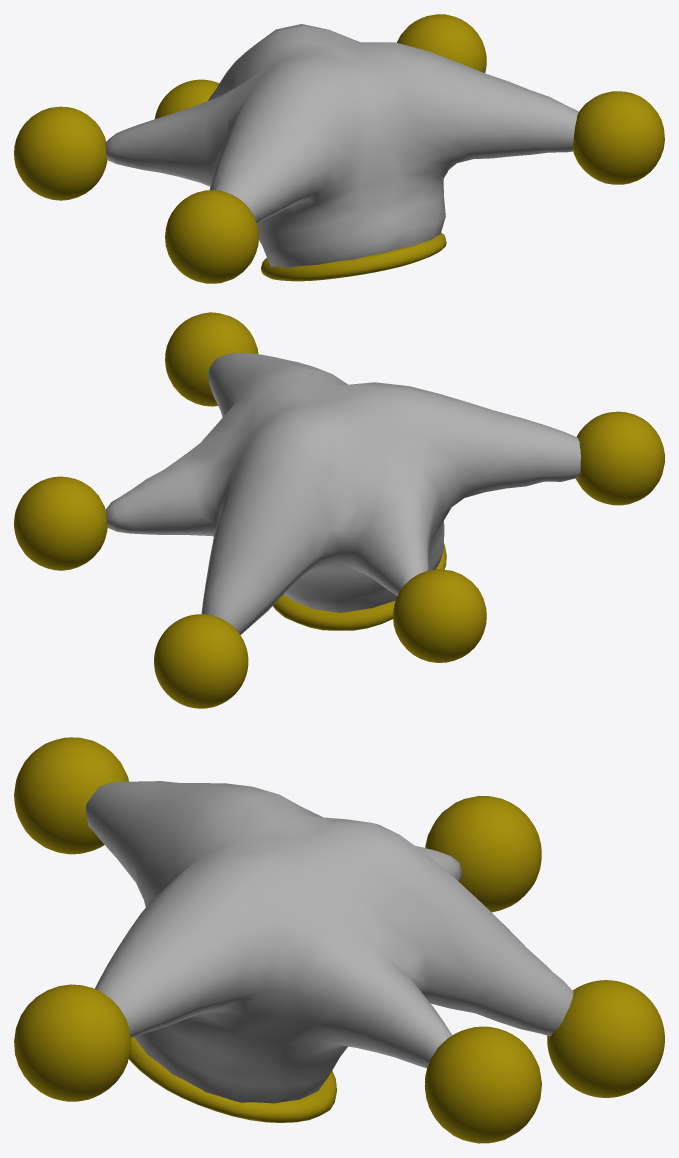
The model's file is Chapeau05.fbx.
3 renders of one model, top to bottom at view 1: azimuth 30°, elevation 25°; view 2: azimuth 150°, elevation 25°; view 3: azimuth 270°, elevation 25°, orthographic. The views are drawn at different scales.
Visible parts, largest first — view 1: Chapeau05; view 2: Chapeau05; view 3: Chapeau05.
Part boxes in pixels (x1,y1,x2,y2): Chapeau05: (14,14,664,283); Chapeau05: (14,312,664,708); Chapeau05: (14,737,664,1143).
Bounding box in the file's own units: 78.44 × 34.62 × 72.74.
